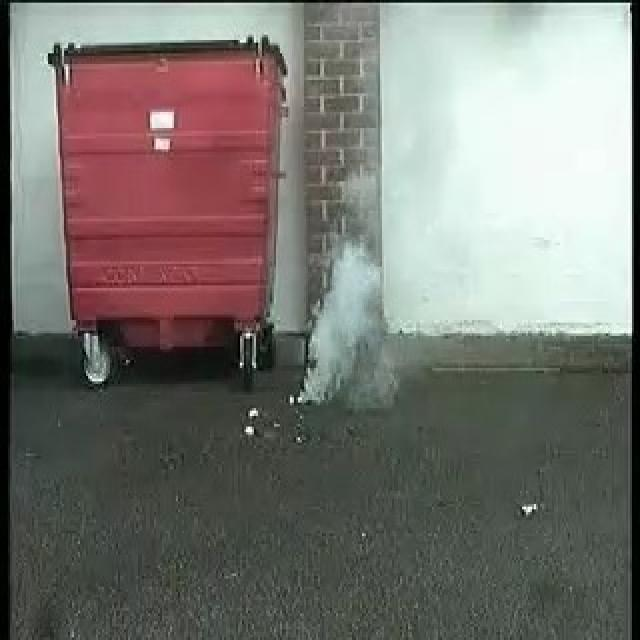smoke: (288, 245, 382, 406)
